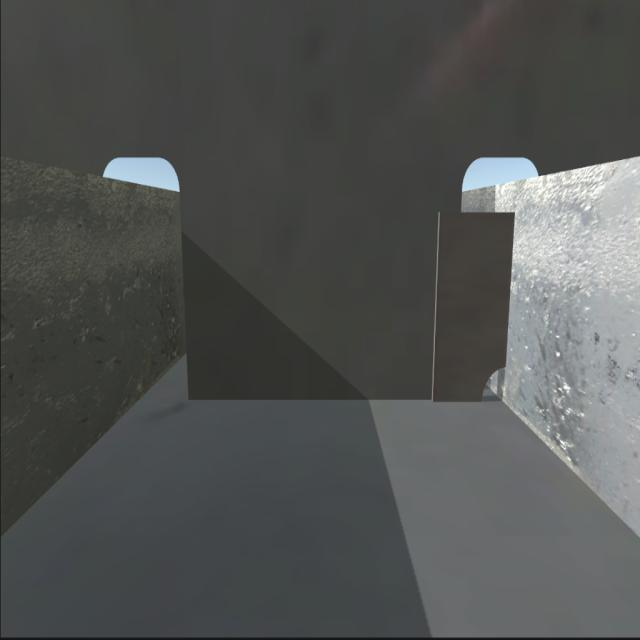fillet_yong_jeop_jang: (190, 392, 478, 410)
longi_yong_jeop_jang: (504, 209, 514, 364)
plate_CP01: (437, 204, 512, 401), (476, 360, 510, 403)
